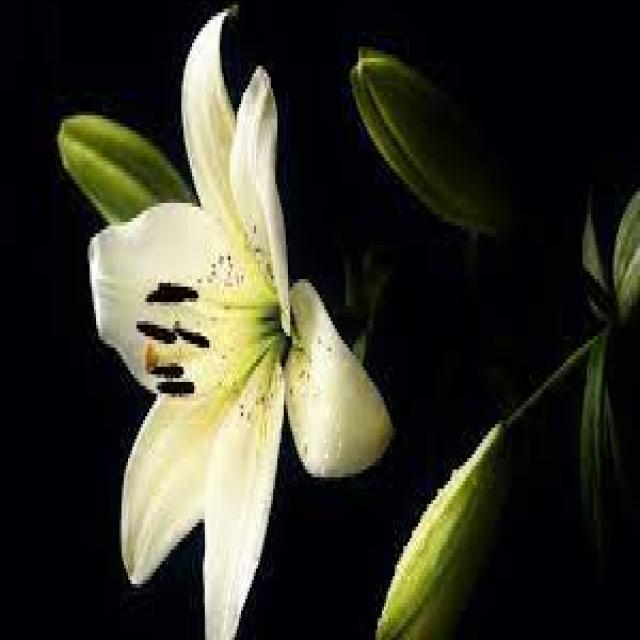lily: (79, 0, 367, 640)
